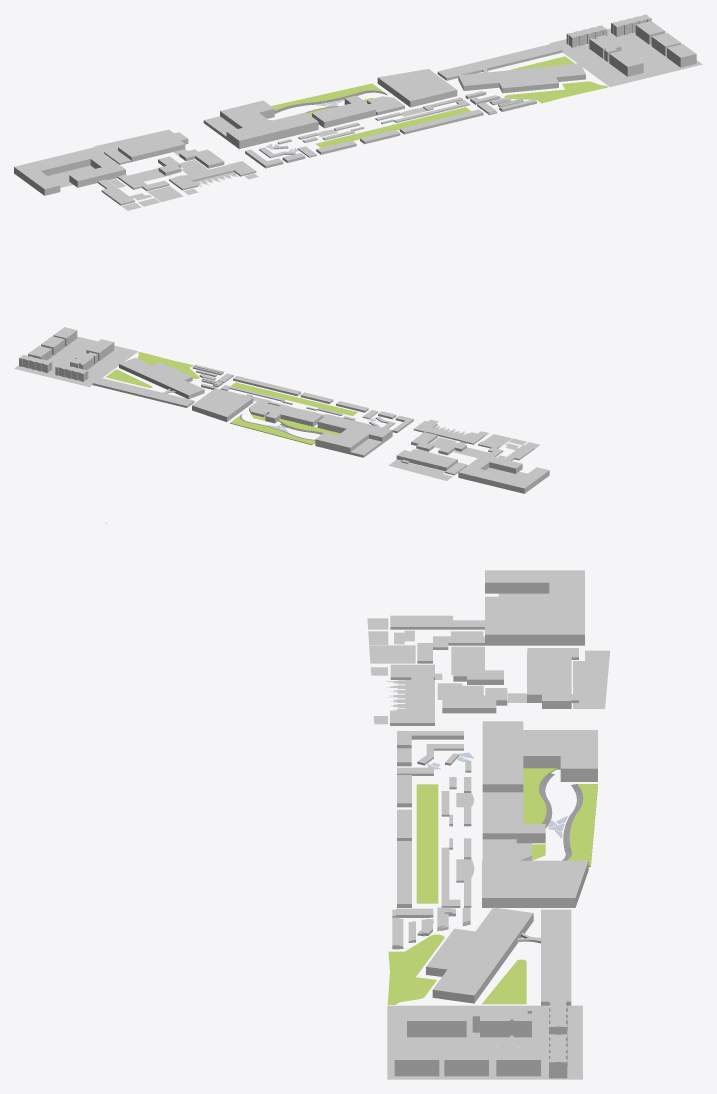
The model's file is ren.glb.
3 views of the same model, one above another, from view 1: azimuth 30°, elevation 25°; view 2: azimuth 150°, elevation 25°; view 3: azimuth 270°, elevation 25° (orthographic). The views are drawn at different scales.
Visible parts, largest first — view 1: group_0, SketchUp, Component_20, group_183, Component_19, group_187, Component_16 (×2), group_185, Big_Project01_เรน-_Copy.dwg, Component_25, group_218, Component_18 (+4 smaller); view 2: group_0, SketchUp, Component_20, group_183, Component_19, Component_16 (×2), group_187, Big_Project01_เรน-_Copy.dwg, group_185, group_218, Component_25, Component_17 (+7 smaller); view 3: group_0, SketchUp, Component_20, group_183, Component_19, Big_Project01_เรน-_Copy.dwg, group_187, Component_25, group_185, Component_18, Component_17, group_218 (+8 smaller).
Part boxes in pixels (left/top/right/bottom): group_0: left=14, top=96, right=500, bottom=210; SketchUp: left=550, top=28, right=702, bottom=86; Component_20: left=458, top=63, right=585, bottom=93; group_183: left=377, top=69, right=457, bottom=107; Component_19: left=437, top=43, right=562, bottom=80; group_187: left=226, top=112, right=318, bottom=141; Component_16 (×2): left=566, top=14, right=651, bottom=47; group_185: left=312, top=95, right=375, bottom=125; Big_Project01_เรน-_Copy.dwg: left=315, top=107, right=470, bottom=147; Component_25: left=504, top=81, right=608, bottom=103; group_218: left=271, top=83, right=384, bottom=110; Component_18: left=609, top=50, right=643, bottom=76; group_0: left=202, top=379, right=549, bottom=493; SketchUp: left=14, top=336, right=137, bottom=386; Component_20: left=119, top=357, right=204, bottom=398; group_183: left=192, top=388, right=253, bottom=421; Component_19: left=92, top=377, right=194, bottom=407; Component_16 (×2): left=19, top=355, right=88, bottom=381; group_187: left=317, top=414, right=392, bottom=438; Big_Project01_เรน-_Copy.dwg: left=231, top=382, right=357, bottom=415; group_185: left=265, top=404, right=323, bottom=424; group_218: left=230, top=415, right=315, bottom=445; Component_25: left=137, top=352, right=199, bottom=378; Component_17: left=70, top=352, right=97, bottom=369; group_0: left=367, top=570, right=610, bottom=931; SketchUp: left=387, top=1005, right=582, bottom=1079; Component_20: left=426, top=907, right=533, bottom=1003; group_183: left=482, top=860, right=588, bottom=907; Component_19: left=541, top=909, right=571, bottom=1005; Big_Project01_เรน-_Copy.dwg: left=416, top=784, right=438, bottom=903; group_187: left=482, top=721, right=523, bottom=785; Component_25: left=387, top=934, right=444, bottom=1004; group_185: left=482, top=792, right=545, bottom=838; Component_18: left=407, top=1008, right=466, bottom=1037; Component_17: left=472, top=1008, right=531, bottom=1037; group_218: left=567, top=784, right=597, bottom=866.
Bounding box in the file's own units: 1768 × 24.33 × 676.
